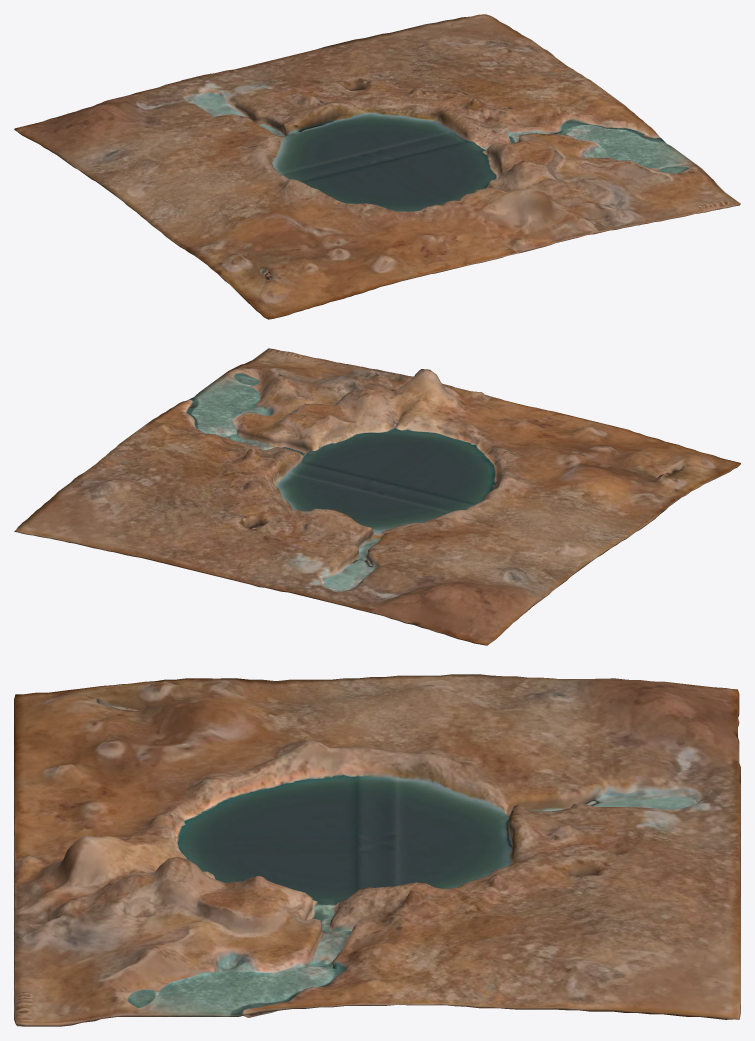
3 views of the same model, one above another, from view 1: azimuth 30°, elevation 25°; view 2: azimuth 150°, elevation 25°; view 3: azimuth 270°, elevation 25° (orthographic). The views are drawn at different scales.
Parts seen in each view (by area): view 1: tripo_node_d2c1b41f-0966-4044-846f-c9e33a6ac673; view 2: tripo_node_d2c1b41f-0966-4044-846f-c9e33a6ac673; view 3: tripo_node_d2c1b41f-0966-4044-846f-c9e33a6ac673.
Part boxes in pixels (x1,y1,x2,y2): tripo_node_d2c1b41f-0966-4044-846f-c9e33a6ac673: [14, 14, 740, 319]; tripo_node_d2c1b41f-0966-4044-846f-c9e33a6ac673: [14, 348, 740, 645]; tripo_node_d2c1b41f-0966-4044-846f-c9e33a6ac673: [14, 674, 740, 1026].
Size of the model in its own units: 0.9784 by 0.0861 by 0.9133.
1 material, 1 textured.
